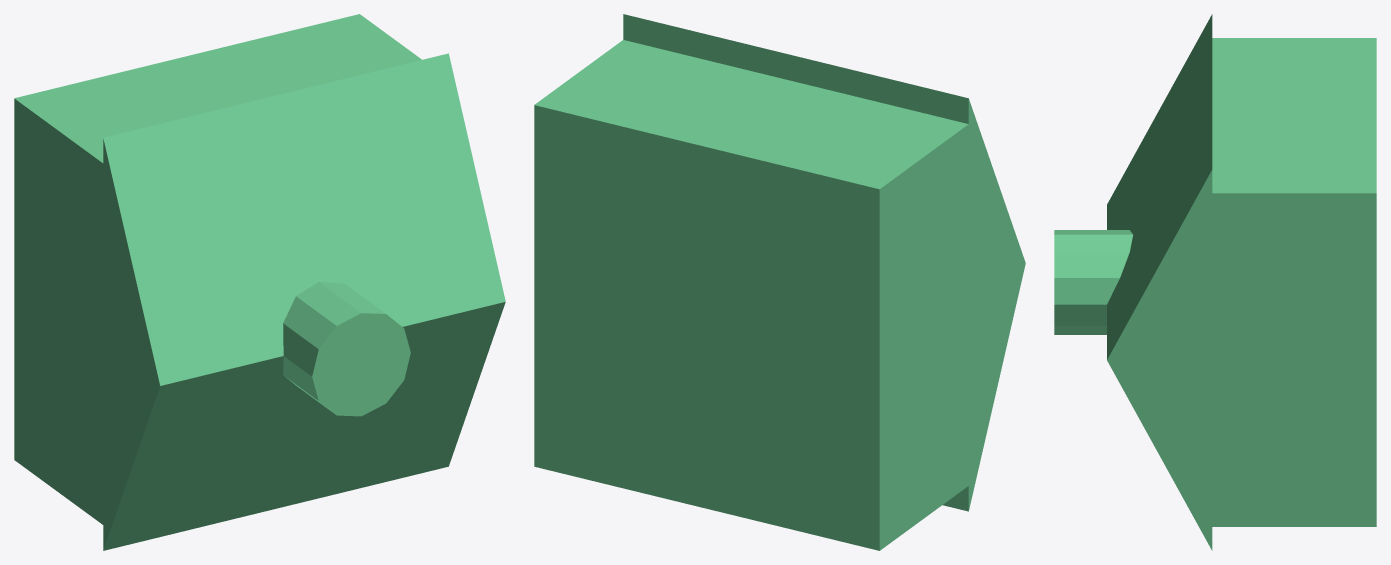
Rendered from house.glb.
3 renders of one model, left to right at view 1: azimuth 30°, elevation 25°; view 2: azimuth 150°, elevation 25°; view 3: azimuth 270°, elevation 25°, orthographic. The views are drawn at different scales.
Parts seen in each view (by area): view 1: world; view 2: world; view 3: world.
Part boxes in pixels (x1,y1,x2,y2): world: [14, 14, 505, 550]; world: [534, 14, 1025, 550]; world: [1054, 14, 1376, 550].
Size of the model in its own units: 1 by 1.14 by 0.8751.
